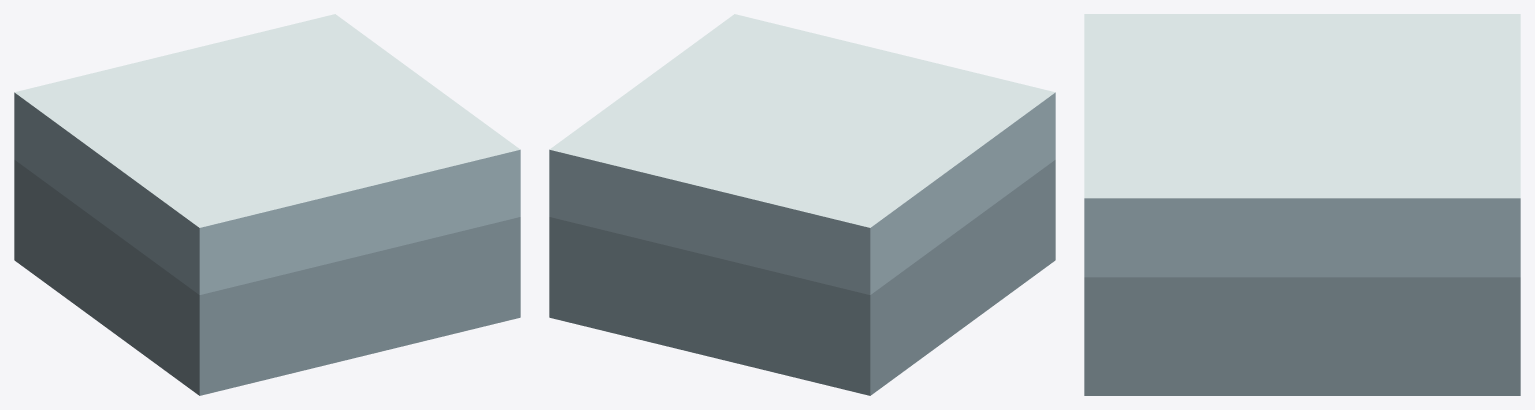
The model's file is Ice_Half.glb.
3 views of the same model, side by side, from view 1: azimuth 30°, elevation 25°; view 2: azimuth 150°, elevation 25°; view 3: azimuth 270°, elevation 25° (orthographic). The views are drawn at different scales.
Parts seen in each view (by area): view 1: Ice_Half_body; view 2: Ice_Half_body; view 3: Ice_Half_body.
Boxes of the visible parts, x1,y1,x2,y2 form: Ice_Half_body: [14, 14, 520, 395]; Ice_Half_body: [549, 14, 1055, 395]; Ice_Half_body: [1084, 14, 1520, 395].
Size of the model in its own units: 1 by 0.5 by 1.
